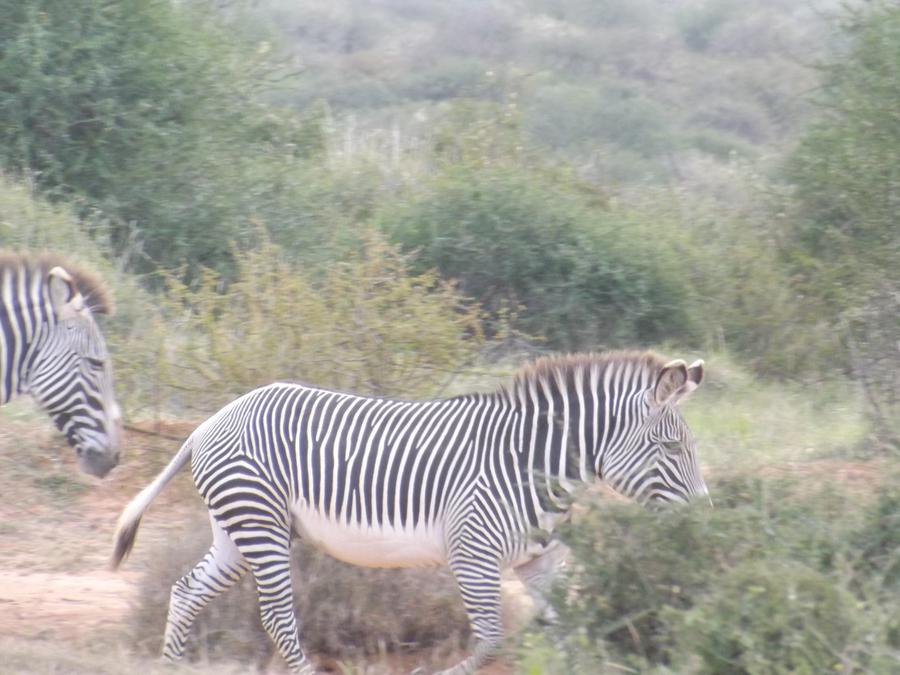zebra_grevys: (184, 363, 540, 552)
